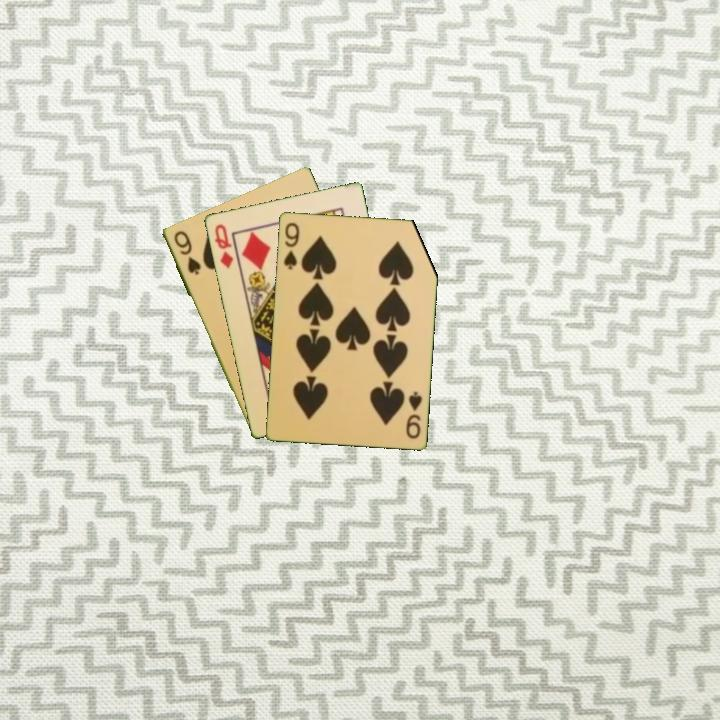9s: (170, 227, 203, 278), (402, 388, 425, 441), (280, 219, 302, 272)
Qd: (211, 220, 236, 271)
